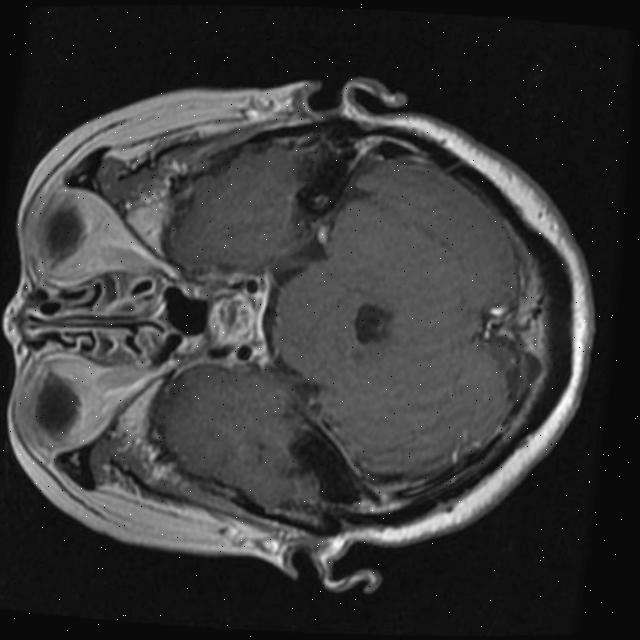Pituitary: (205, 289, 258, 345)
